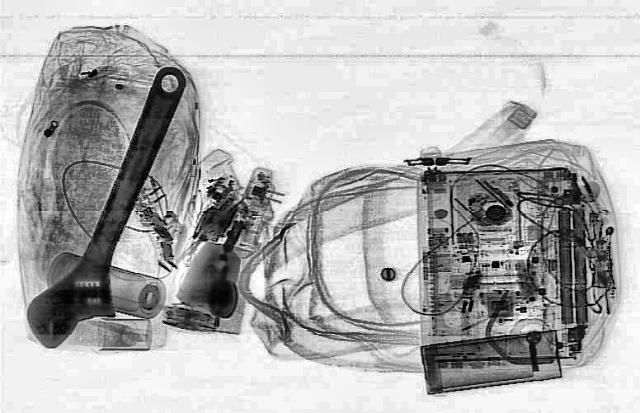Wrench: (12, 60, 216, 354)
